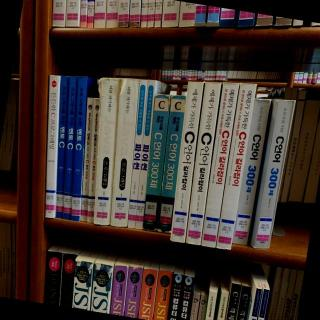book-spine: (215, 81, 257, 250), (200, 81, 240, 248), (252, 98, 295, 251), (184, 81, 222, 245), (231, 98, 271, 246), (169, 81, 204, 243), (91, 78, 121, 225), (109, 79, 138, 227), (141, 94, 170, 231), (157, 96, 186, 233), (134, 79, 156, 229), (127, 80, 147, 229), (71, 76, 87, 221), (44, 75, 60, 219), (63, 76, 78, 220), (54, 76, 69, 218), (80, 97, 94, 221), (87, 98, 100, 223)
